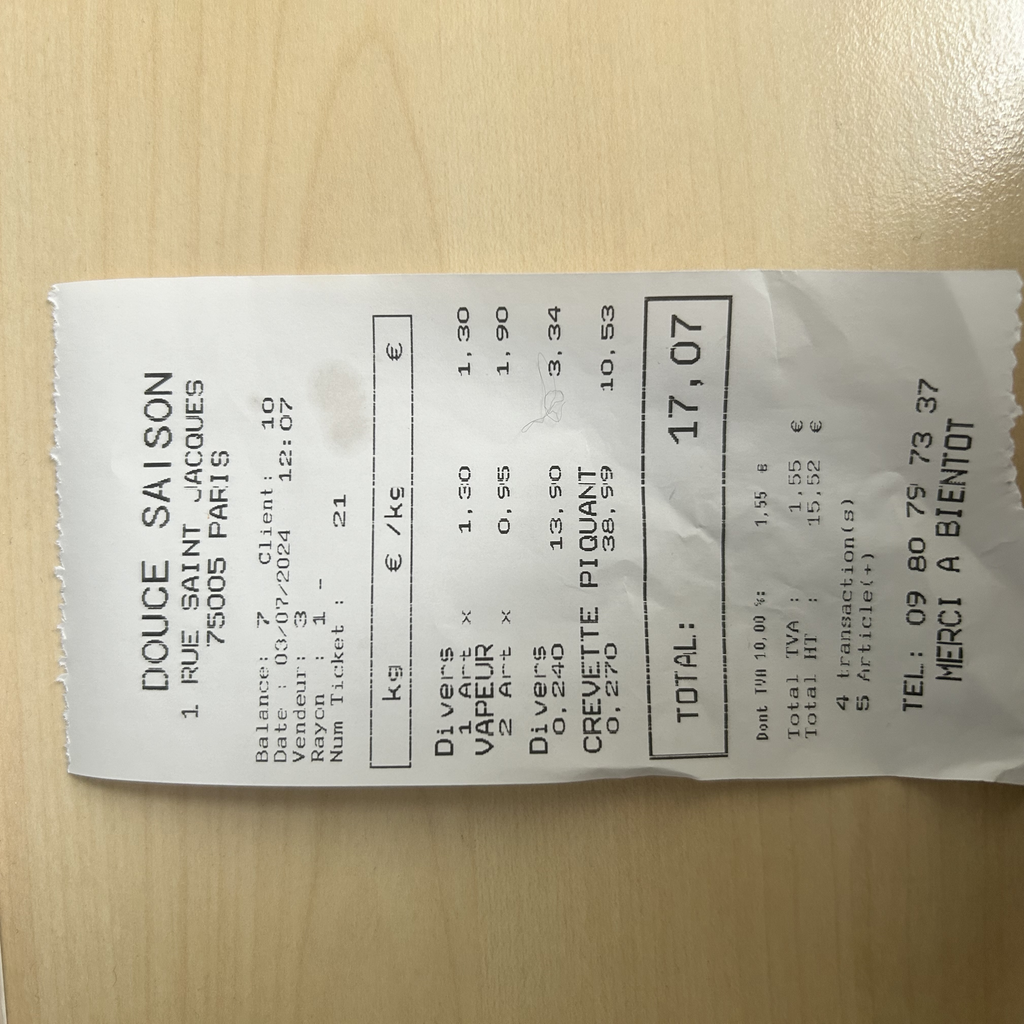recipt: (53, 266, 1018, 790)
